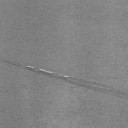finishing roll printing: (50, 75, 128, 101), (2, 60, 21, 67), (39, 68, 55, 74), (25, 66, 36, 70)
